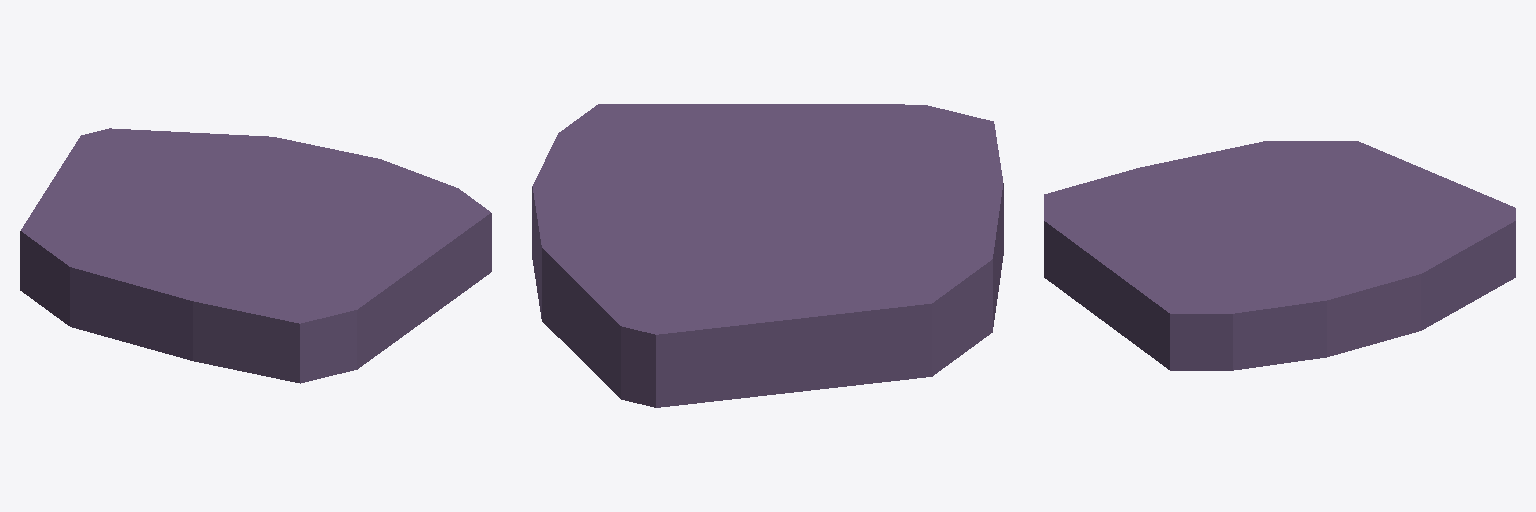
The robot description file, URDF, robot "table":
<?xml version="1.0"?>
<robot name="table">
  <!-- The table top of Book on a patterned cloth: a static convex slab, top face at z = 0. Load with a fixed base -->
  <mujoco>
    <compiler meshdir="../meshes/" discardvisual="true" balanceinertia="true" fusestatic="false" />
  </mujoco>
  <link name="table">
    <inertial>
      <mass value="20" />
      <inertia ixx="1" ixy="0" ixz="0" iyy="1" iyz="0" izz="1" />
    </inertial>
    <visual>
      <geometry>
        <mesh filename="../meshes/table.obj" />
      </geometry>
      <material name="table_color">
        <color rgba="0.478 0.404 0.541 1" />
      </material>
    </visual>
    <collision>
      <geometry>
        <mesh filename="../meshes/table.obj" />
      </geometry>
    </collision>
    <contact>
      <lateral_friction value="1" />
    </contact>
  </link>
</robot>

--- What the picture shows (computed from the rendered views, not written in the file) ---
Views: 3 orthographic renders of the robot side by side, from view 1: azimuth 30°, elevation 25°; view 2: azimuth 150°, elevation 25°; view 3: azimuth 270°, elevation 25°.
Robot: table — 1 links, 0 joints (none); root link table; default pose: all joints at 0.
Links seen in each view (by area): view 1: table; view 2: table; view 3: table.
Link boxes in pixels (left/top/right/bottom): table: left=20, top=128, right=491, bottom=383; table: left=532, top=104, right=1003, bottom=407; table: left=1044, top=141, right=1515, bottom=370.
Bounding box of the posed robot: 0.26 × 0.3 × 0.04 m (x, y, z).
Meshes: 1 distinct files referenced, 1 mesh visuals loaded (1 OBJ).
